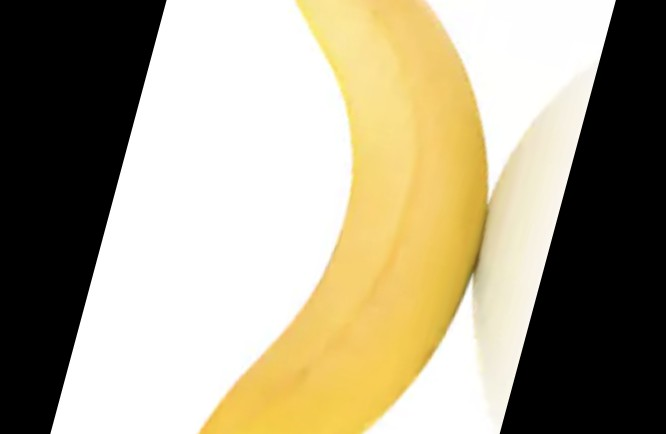fresh_banana: (200, 2, 489, 434)
